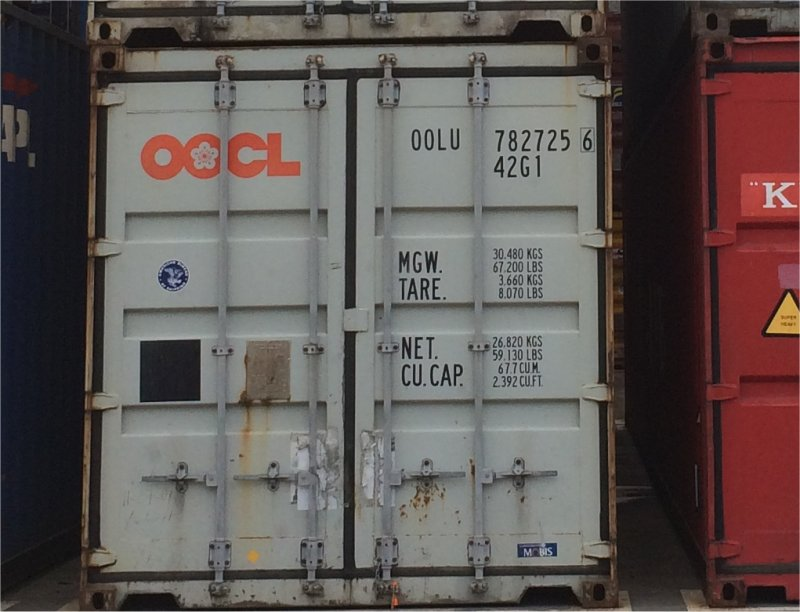container_door: (88, 44, 621, 607)
